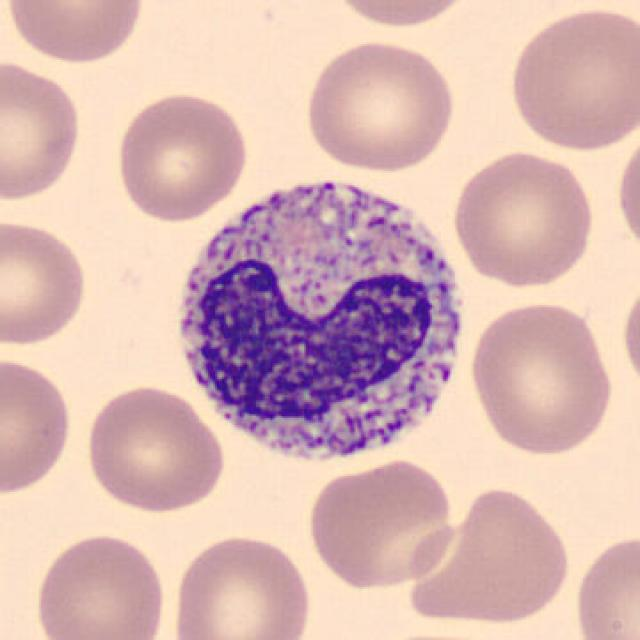Neutrophil: (162, 160, 478, 482)
RBC: (405, 483, 576, 630), (466, 296, 617, 460), (301, 35, 458, 175), (448, 146, 597, 289), (302, 457, 459, 592), (503, 3, 638, 154), (80, 381, 228, 515), (112, 86, 252, 224), (169, 529, 315, 640), (30, 529, 171, 640), (0, 54, 85, 204), (0, 215, 91, 349), (0, 353, 75, 497), (2, 0, 149, 67), (569, 529, 640, 640), (326, 0, 478, 30), (611, 118, 640, 262), (618, 275, 640, 400), (364, 626, 506, 640)
